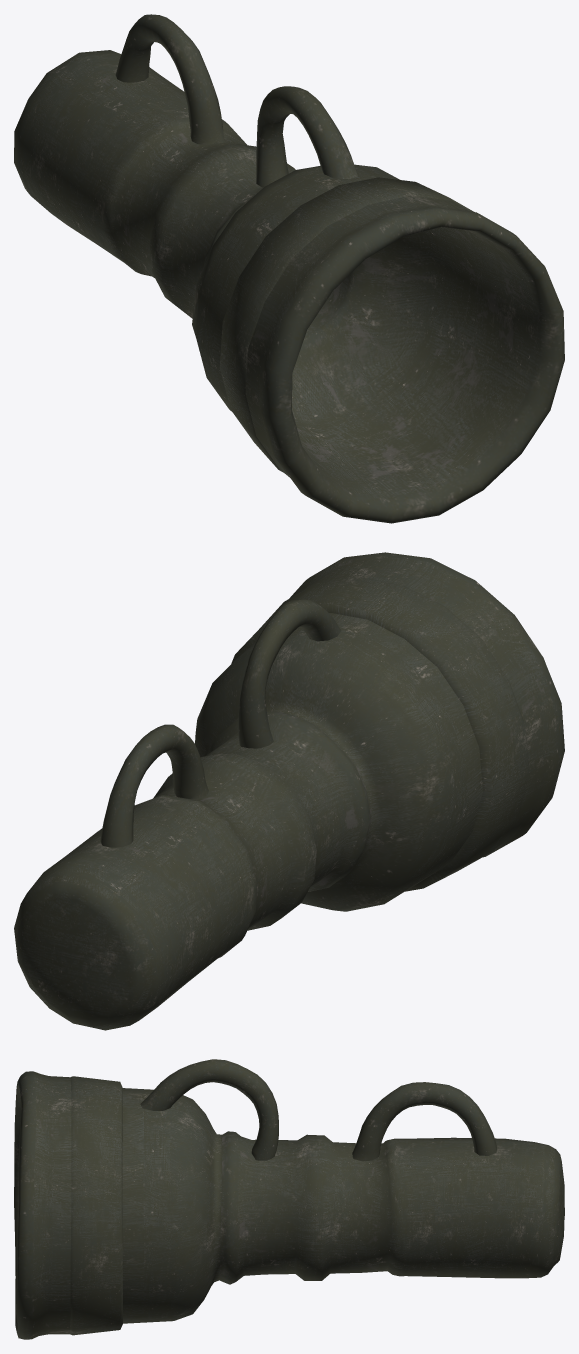
Rendered from SM_Large_Mortar.fbx.
3 renders of one model, top to bottom at view 1: azimuth 30°, elevation 25°; view 2: azimuth 150°, elevation 25°; view 3: azimuth 270°, elevation 25°, orthographic. The views are drawn at different scales.
Visible parts, largest first — view 1: SM_Large_Mortar; view 2: SM_Large_Mortar; view 3: SM_Large_Mortar.
Boxes of the visible parts, left/top/right/bottom form: SM_Large_Mortar: left=14, top=14, right=564, bottom=523; SM_Large_Mortar: left=14, top=552, right=564, bottom=1030; SM_Large_Mortar: left=14, top=1059, right=564, bottom=1339.
Size of the model in its own units: 39.9 by 81.48 by 43.74.
1 material, 1 textured.
